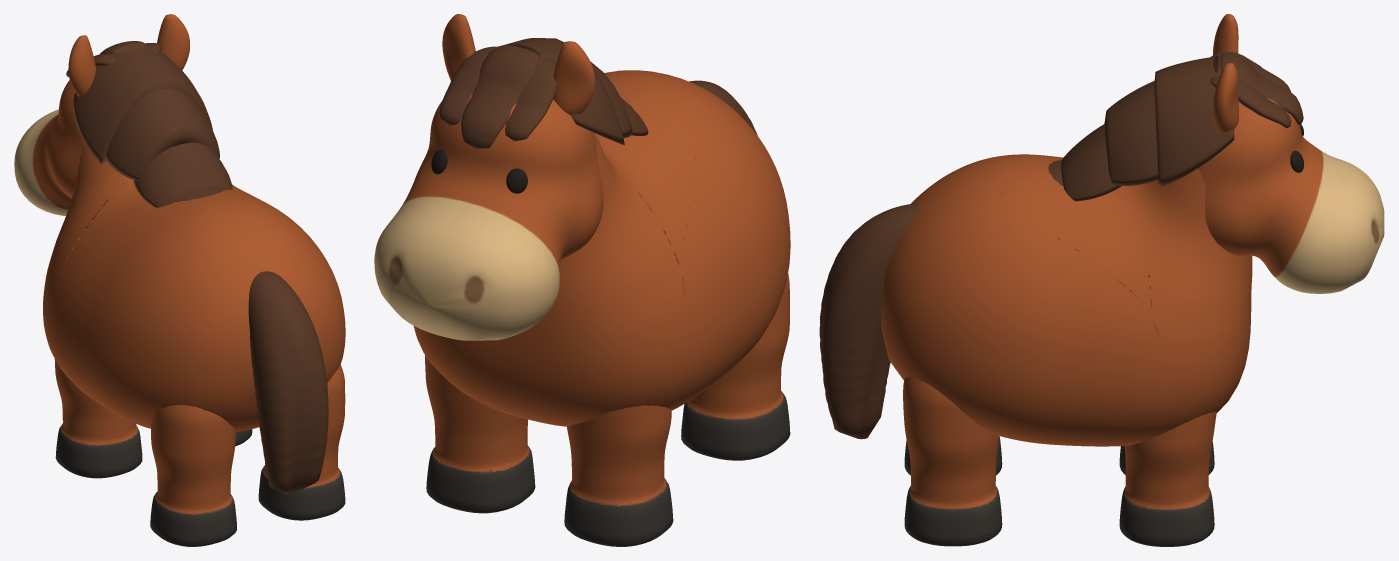
3 views of the same model, side by side, from view 1: azimuth 30°, elevation 25°; view 2: azimuth 150°, elevation 25°; view 3: azimuth 270°, elevation 25° (orthographic). The views are drawn at different scales.
Size of the model in its own units: 0.8938 by 1.5 by 1.67.
1 material, 1 textured.
